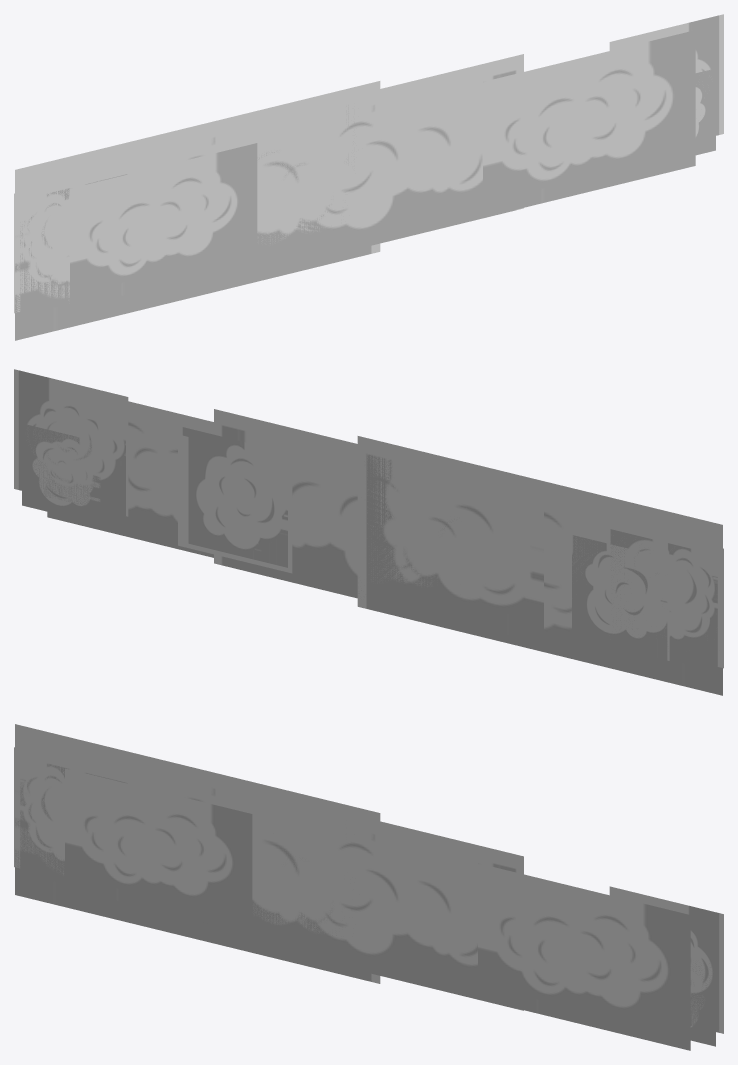
File: puff_balk_647.glb
The picture shows the model from 3 angles, top to bottom: view 1: azimuth 30°, elevation 25°; view 2: azimuth 150°, elevation 25°; view 3: azimuth 330°, elevation 25°; orthographic projection.
Visible parts, largest first — view 1: puff6, puff6_1, puff8, puff8_1, puff2, puff4, puff3; view 2: puff6, puff6_1, puff5, puff4, puff1, puff8, puff2, puff3; view 3: puff6_1, puff6, puff8, puff8_1, puff2, puff4, puff3.
Part boxes in pixels (box(x1,y1,x2,y2)): puff6: box(224, 54, 523, 270); puff6_1: box(15, 81, 380, 340); puff8: box(483, 30, 695, 217); puff8_1: box(70, 143, 257, 308); puff2: box(14, 166, 128, 313); puff4: box(609, 14, 723, 135); puff3: box(695, 68, 715, 155); puff6: box(214, 409, 543, 643); puff6_1: box(357, 436, 722, 695); puff5: box(178, 426, 292, 573); puff4: box(14, 369, 128, 516); puff1: box(572, 535, 669, 660); puff8: box(47, 401, 213, 557); puff2: box(609, 521, 723, 668); puff3: box(22, 423, 100, 524); puff6_1: box(15, 724, 380, 983); puff6: box(194, 802, 523, 1010); puff8: box(478, 863, 690, 1050); puff8_1: box(65, 768, 252, 933); puff2: box(14, 747, 128, 879); puff4: box(609, 886, 723, 1033); puff3: box(690, 963, 715, 1046).
Size of the model in its own units: 168 by 38.55 by 1.
1 material, 1 textured.
